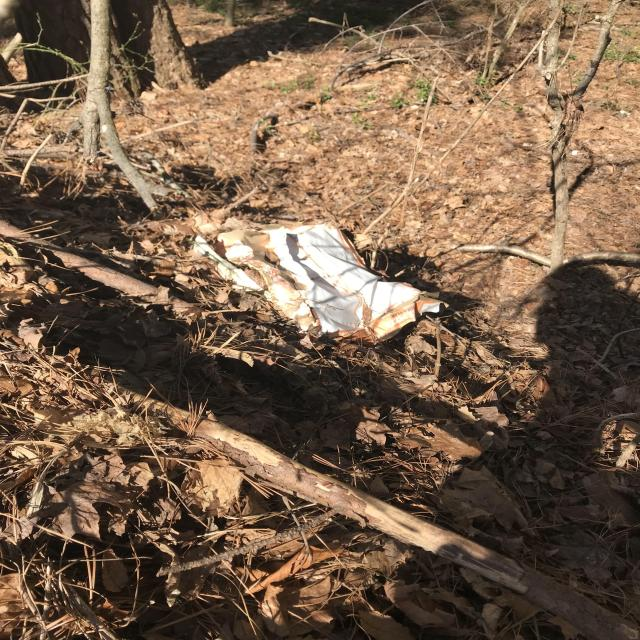litter: (193, 221, 449, 350)
